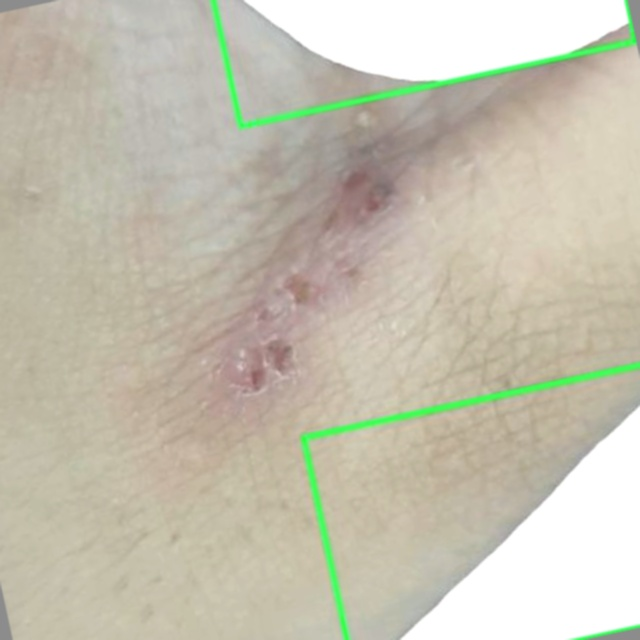Scabies: (303, 365, 639, 639)
